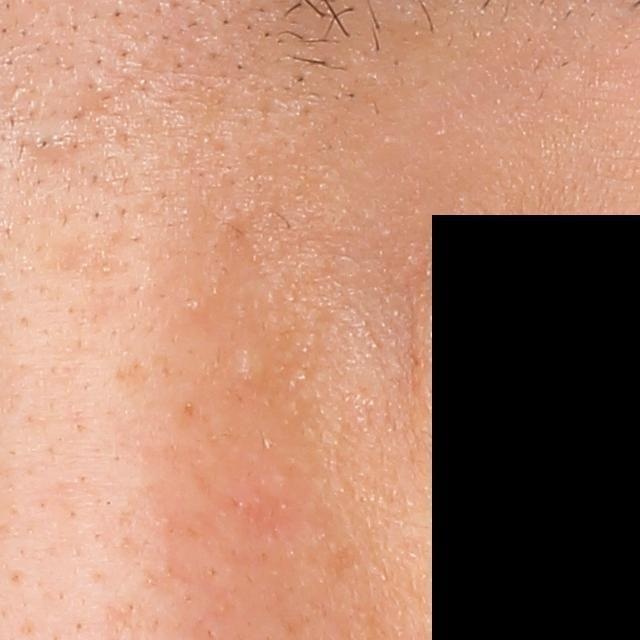comedo: (233, 347, 274, 389)
